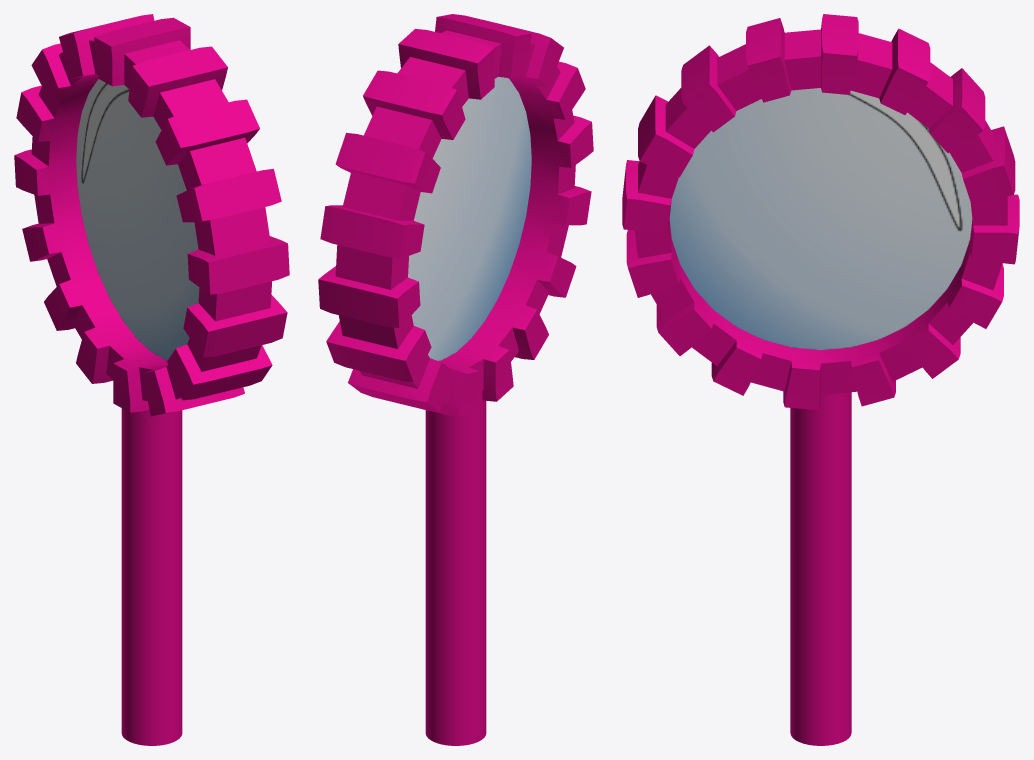
The model's file is BubbleWand.fbx.
3 views of the same model, side by side, from view 1: azimuth 30°, elevation 25°; view 2: azimuth 150°, elevation 25°; view 3: azimuth 270°, elevation 25° (orthographic).
Visible parts, largest first — view 1: Circle; view 2: Circle; view 3: Circle.
Part boxes in pixels (<box>): Circle: <box>14,14,289,745</box>; Circle: <box>318,14,593,745</box>; Circle: <box>622,14,1019,745</box>.
Bounding box in the file's own units: 49.4 × 414 × 213.
